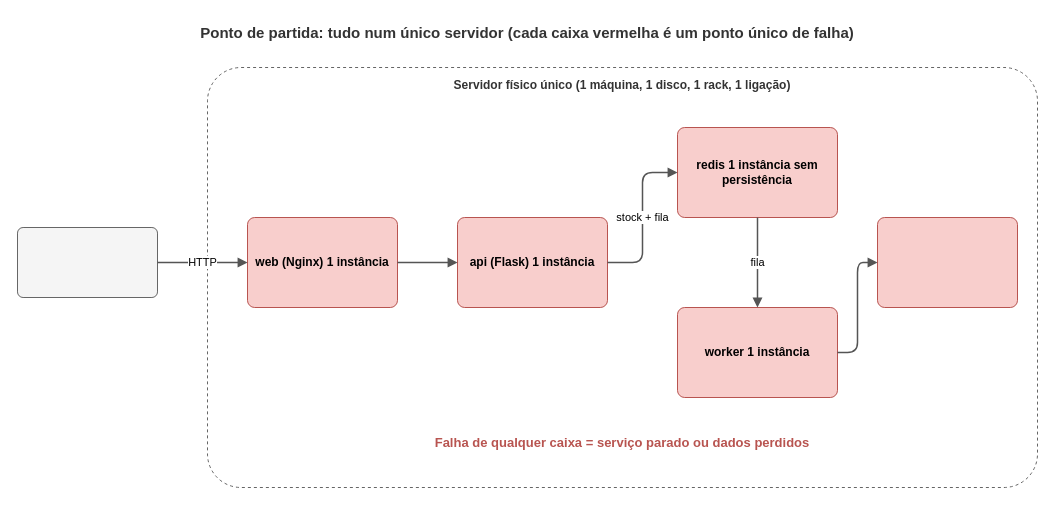
Image size: 1055x505. Some labels were removed from this diagram. Here are the shapes that lost their labels. From the top down, the centre of each, then its label:
(x=87, y=262): Utilizadores
(x=947, y=262): PostgreSQL 1 instância 1 disco local
